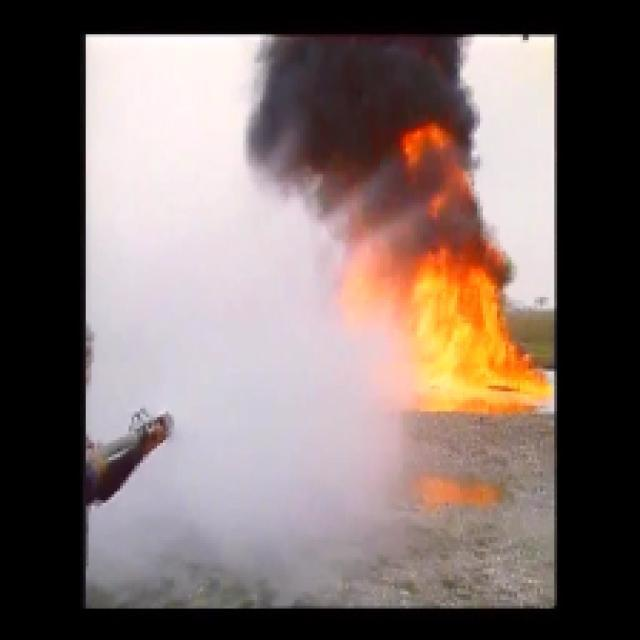Fire: (340, 123, 546, 403)
Smoke: (243, 34, 474, 243)
